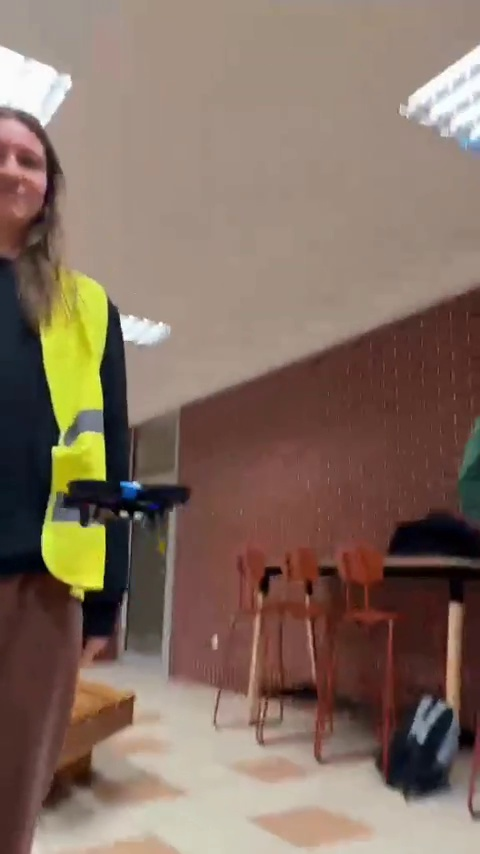drone: (59, 478, 197, 530)
vest: (0, 102, 138, 842)
